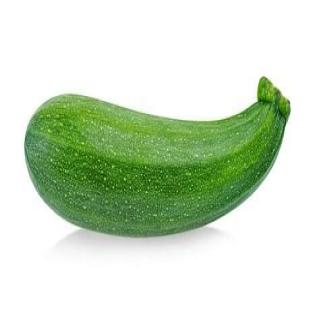Zucchini: (25, 78, 290, 236)
